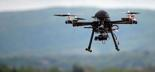UAV: (64, 10, 138, 54)
